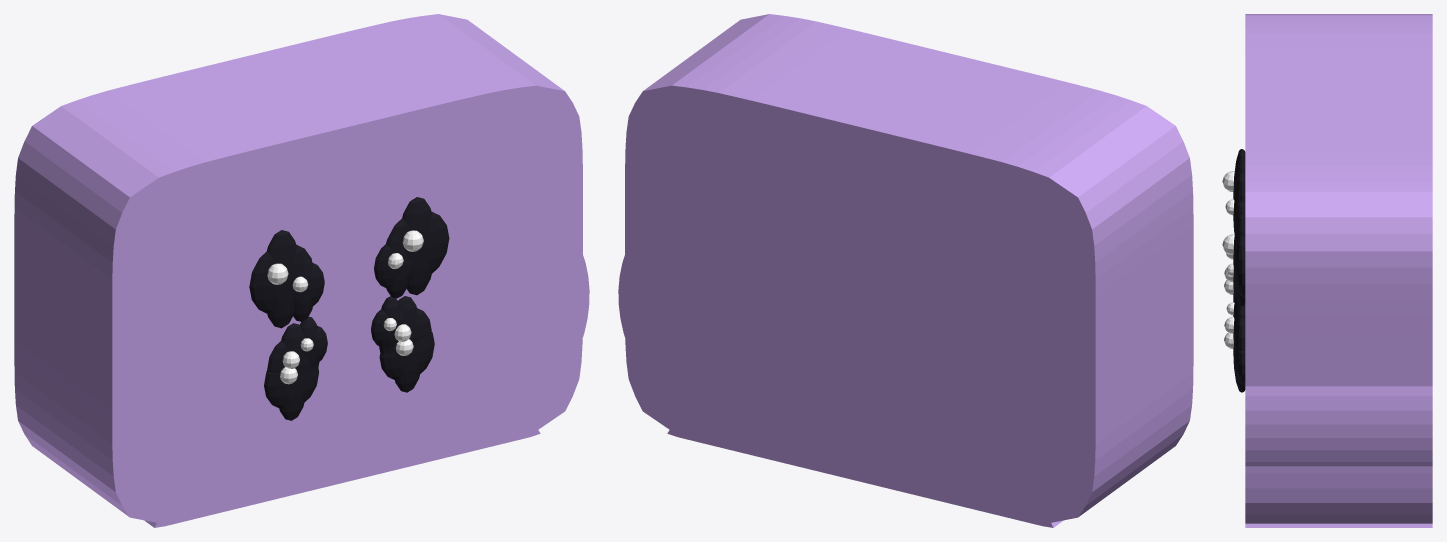
Rendered from companions-aD5CWGg1.glb.
3 views of the same model, side by side, from view 1: azimuth 30°, elevation 25°; view 2: azimuth 150°, elevation 25°; view 3: azimuth 270°, elevation 25° (orthographic). The views are drawn at different scales.
Parts seen in each view (by area): view 1: pill.Body, circle.Body, squircle.Body, triangle.Body, cloud.Body, hexagon.Body, drop.Body, pill.Dots.0, pill.Dots.1, pill.Lines.0, pill.Lines.1, cloud.Dots.0 (+2 smaller); view 2: pill.Body, squircle.Body, circle.Body, cloud.Body, drop.Body, triangle.Body, hexagon.Body; view 3: pill.Body, cloud.Body, squircle.Body, triangle.Body, pill.Dots.1, pill.Lines.1, cloud.Dots.1, triangle.Dots.1, pill.Lines.0, pill.Dots.0.
Part boxes in pixels (x1,y1,x2,y2): pill.Body: [14, 14, 582, 523]; circle.Body: [178, 122, 515, 486]; squircle.Body: [178, 48, 516, 501]; triangle.Body: [144, 130, 540, 527]; cloud.Body: [153, 125, 589, 511]; hexagon.Body: [198, 128, 489, 480]; drop.Body: [226, 128, 457, 483]; pill.Dots.0: [249, 244, 312, 313]; pill.Dots.1: [386, 212, 449, 273]; pill.Lines.0: [267, 230, 296, 328]; pill.Lines.1: [402, 197, 431, 295]; cloud.Dots.0: [264, 368, 318, 408]; pill.Body: [625, 14, 1193, 523]; squircle.Body: [691, 49, 1029, 504]; circle.Body: [691, 122, 1029, 486]; cloud.Body: [618, 127, 1062, 505]; drop.Body: [734, 137, 970, 485]; triangle.Body: [667, 128, 1063, 527]; hexagon.Body: [711, 127, 1009, 480]; pill.Body: [1245, 14, 1432, 523]; cloud.Body: [1245, 386, 1432, 466]; squircle.Body: [1245, 81, 1432, 116]; triangle.Body: [1245, 523, 1432, 527]; pill.Dots.1: [1233, 236, 1245, 295]; pill.Lines.1: [1233, 212, 1245, 306]; cloud.Dots.1: [1233, 346, 1245, 383]; triangle.Dots.1: [1233, 318, 1245, 350]; pill.Lines.0: [1233, 149, 1245, 193]; pill.Dots.0: [1233, 173, 1245, 201].
Bounding box in the file's own units: 1.41 × 1 × 0.5612.
